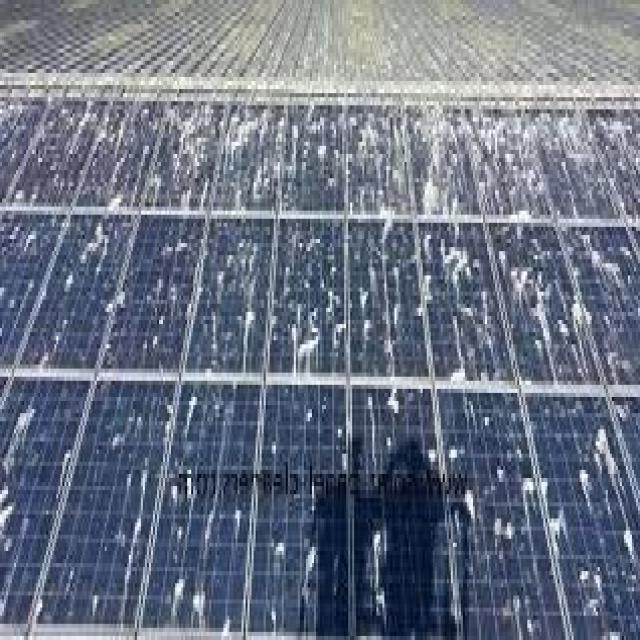soiled: (0, 89, 638, 636)
